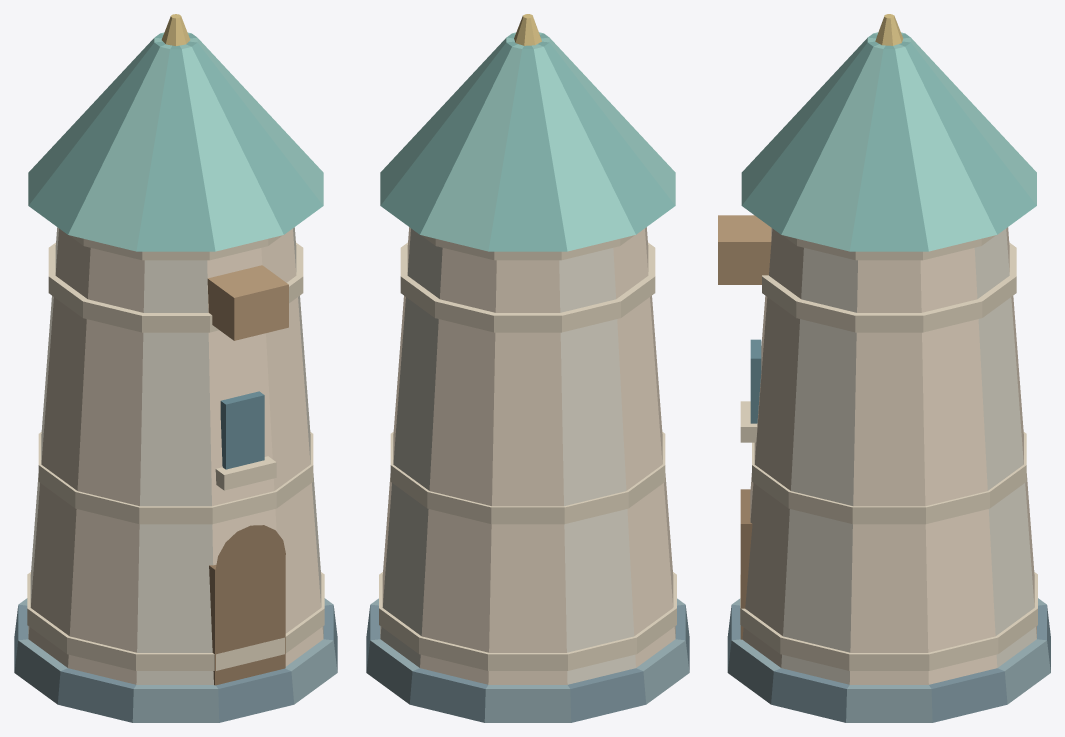
The model's file is SkyMill.glb.
The picture shows the model from 3 angles, left to right: view 1: azimuth 30°, elevation 25°; view 2: azimuth 150°, elevation 25°; view 3: azimuth 270°, elevation 25°; orthographic projection.
Parts seen in each view (by area): view 1: SkyMill; view 2: SkyMill; view 3: SkyMill.
Part boxes in pixels (x1=…): SkyMill: x1=14, y1=14, x2=337, y2=722; SkyMill: x1=366, y1=14, x2=689, y2=722; SkyMill: x1=718, y1=14, x2=1050, y2=722.
Bounding box in the file's own units: 2.45 × 5.35 × 2.53.
